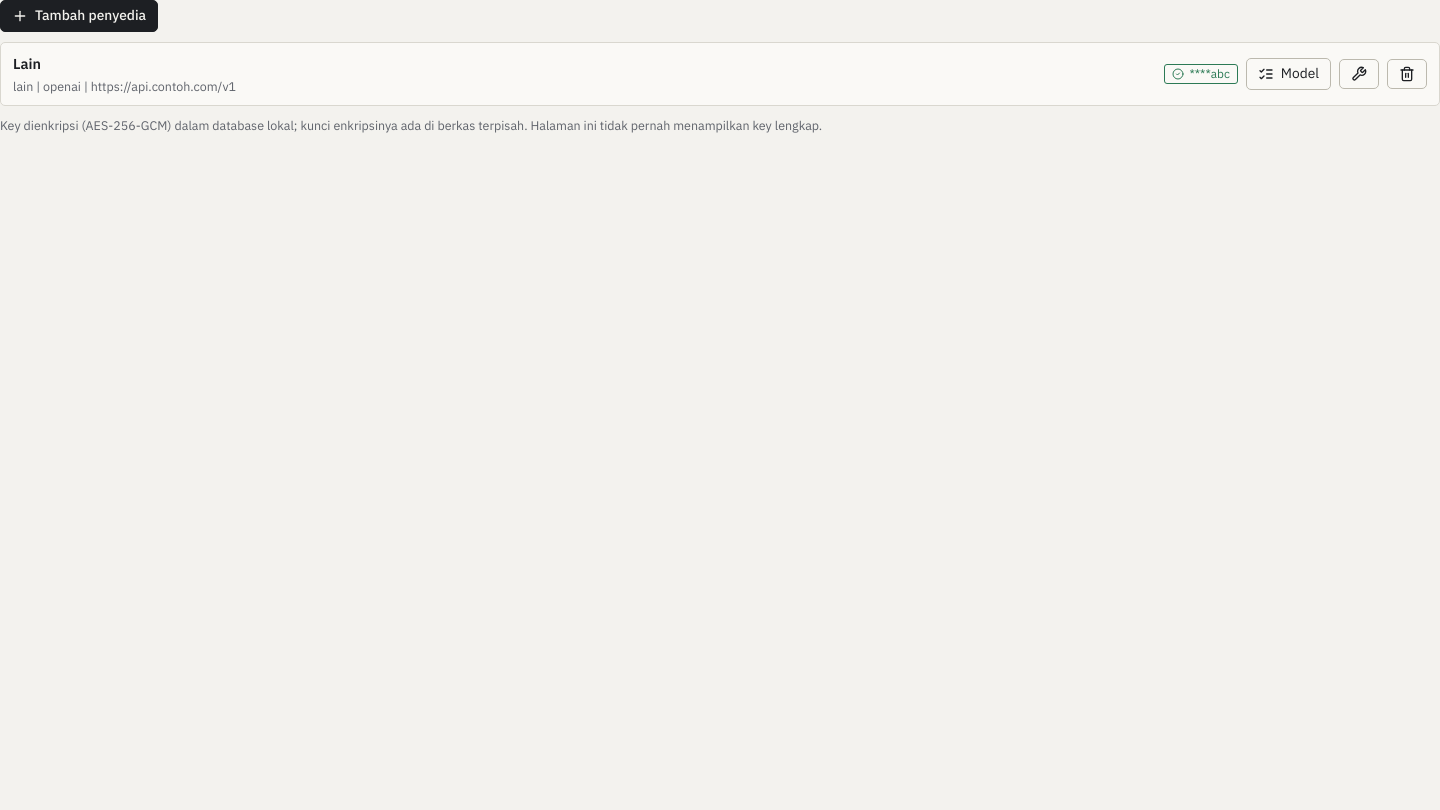
Test case: ProvidersPanel › menyimpan dari modal mengirim muatan lalu menutup modal; Ubah membuka modal berisi data penyedia
Click the button named "Ubah Lain".
click(1359, 74)  # box x1=1339 y1=59 x2=1379 y2=89
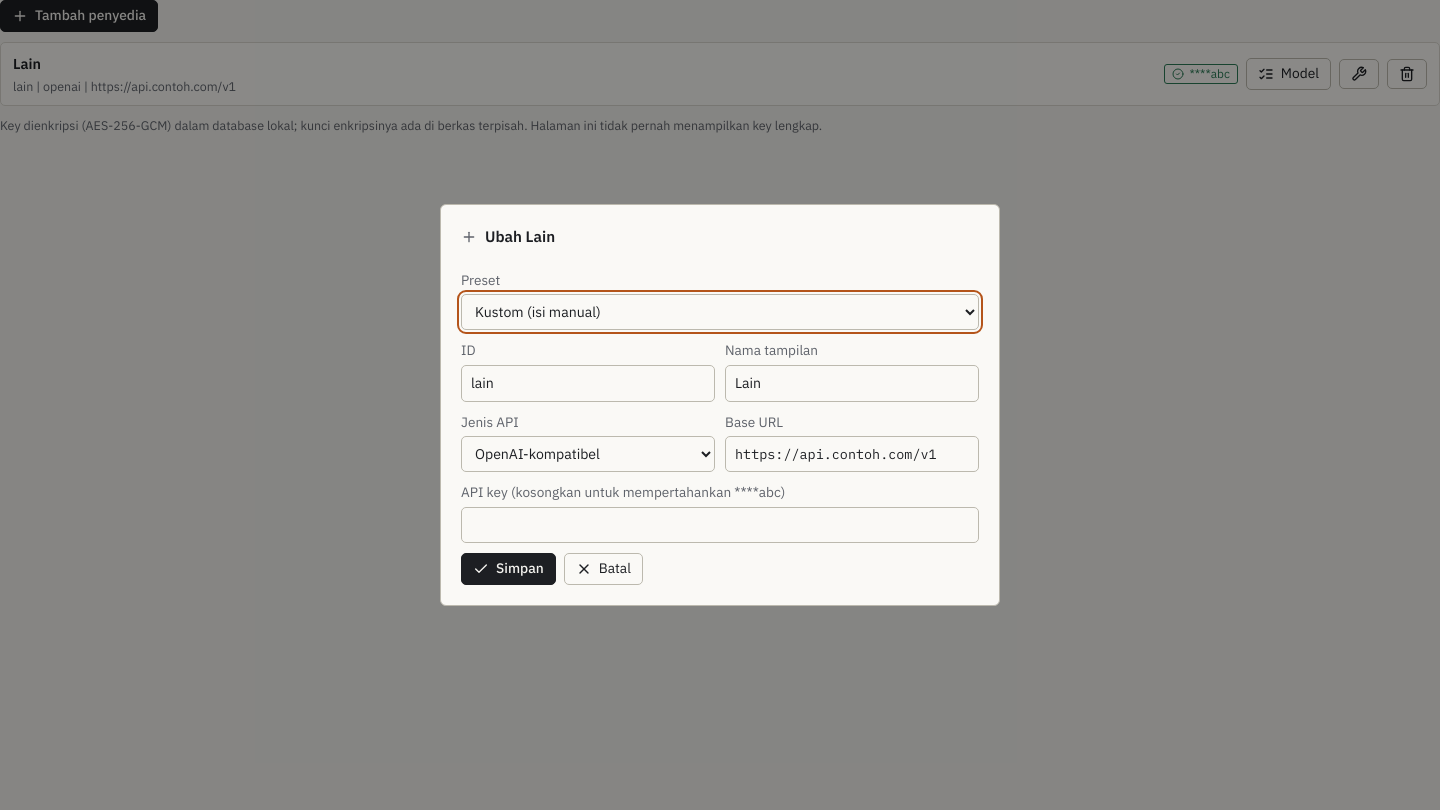
Result: the heading "Ubah Lain" is shown at x1=461 y1=226 x2=555 y2=246
Result: the field showing "https://api.contoh.com/v1" is shown at x1=725 y1=436 x2=979 y2=472
Click the button "Simpan".
click(508, 569)  # box x1=461 y1=553 x2=556 y2=585
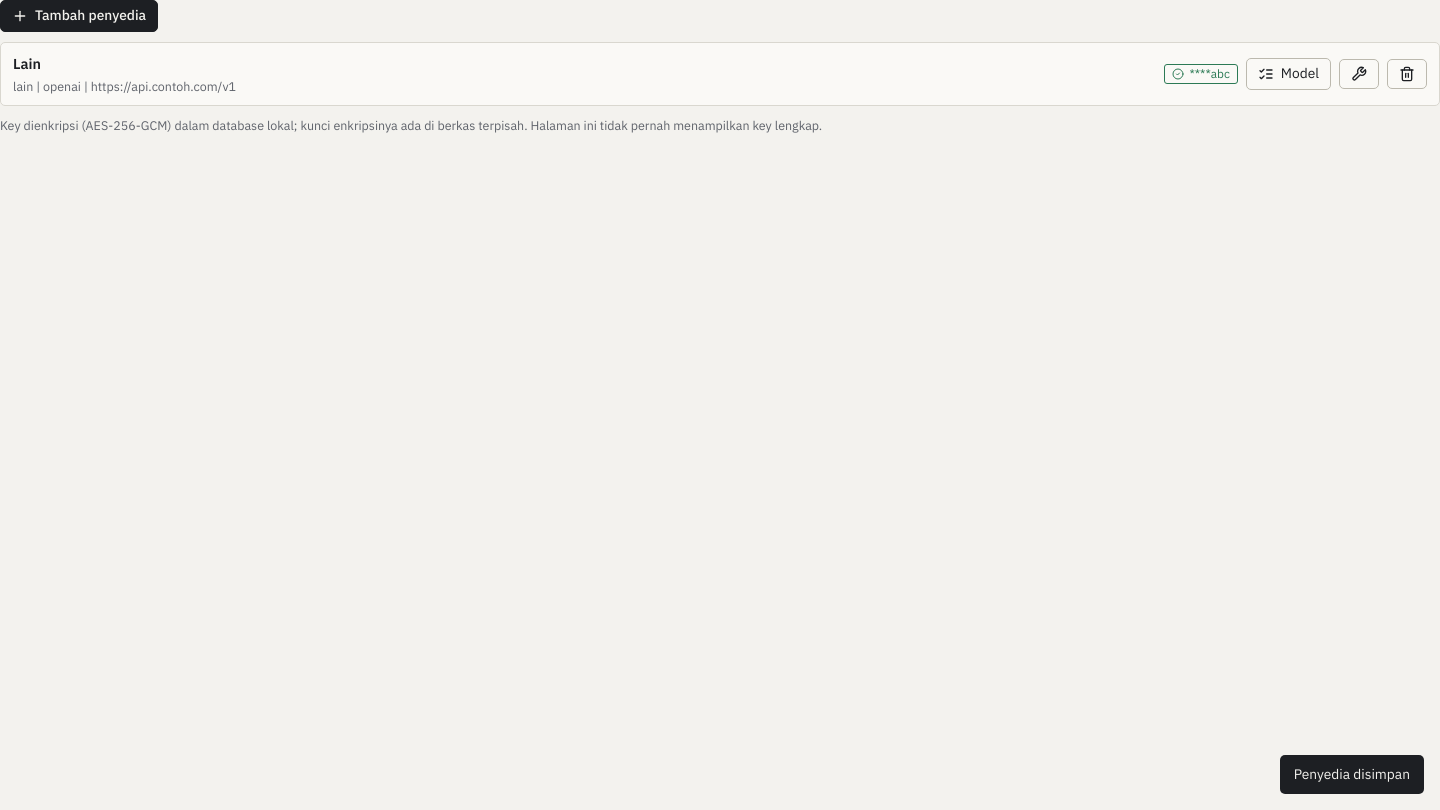
Result: the heading "Ubah Lain" is gone
